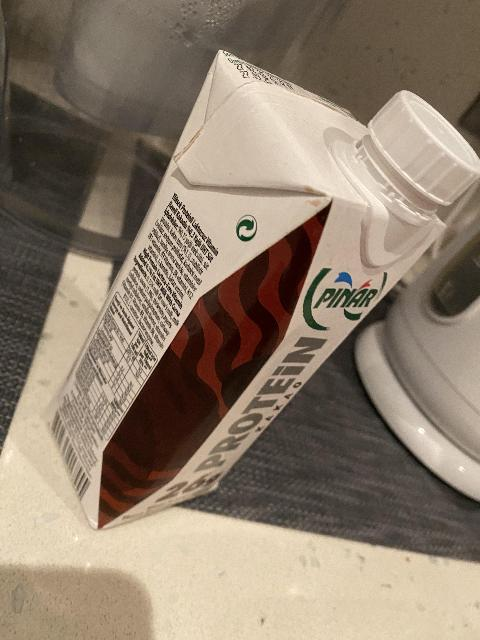Kagit: (44, 48, 359, 535)
Plastik: (356, 68, 480, 210), (393, 544, 397, 546), (407, 545, 408, 547)
